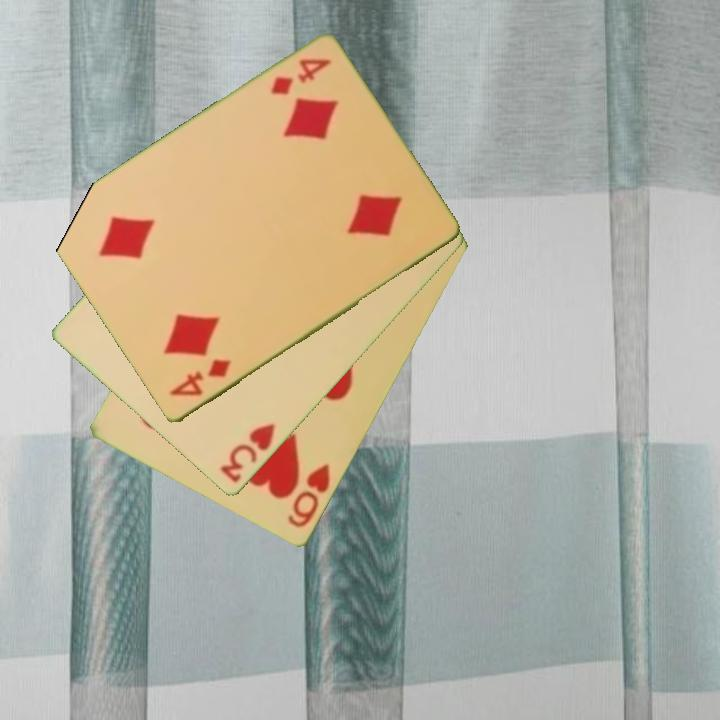3h: (216, 420, 278, 487)
4d: (166, 355, 235, 400), (266, 55, 335, 99)
6h: (284, 460, 334, 531)
